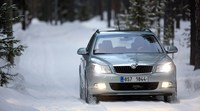car: (78, 30, 177, 103)
